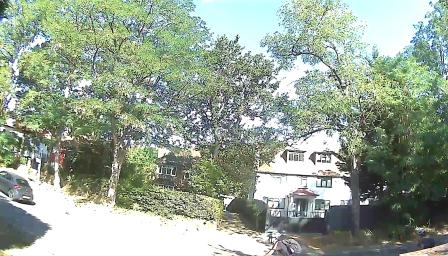Cars: (7, 168, 47, 202)
